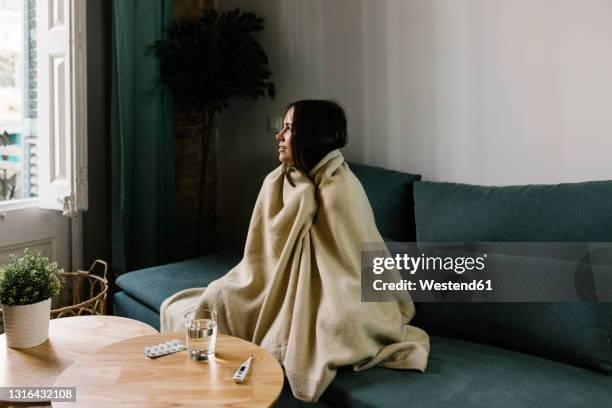blanket: (158, 148, 430, 403)
